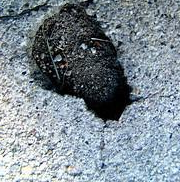Spalling: (29, 3, 143, 125)
